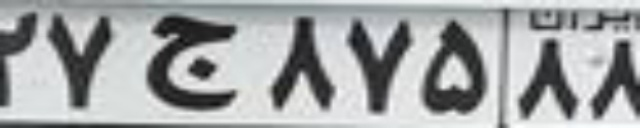2: (1, 6, 36, 108)
5: (421, 18, 488, 115)
7: (343, 14, 412, 113), (46, 10, 115, 108)
8: (260, 16, 337, 111), (511, 37, 580, 119), (589, 40, 639, 118)
jim: (141, 13, 239, 109)
